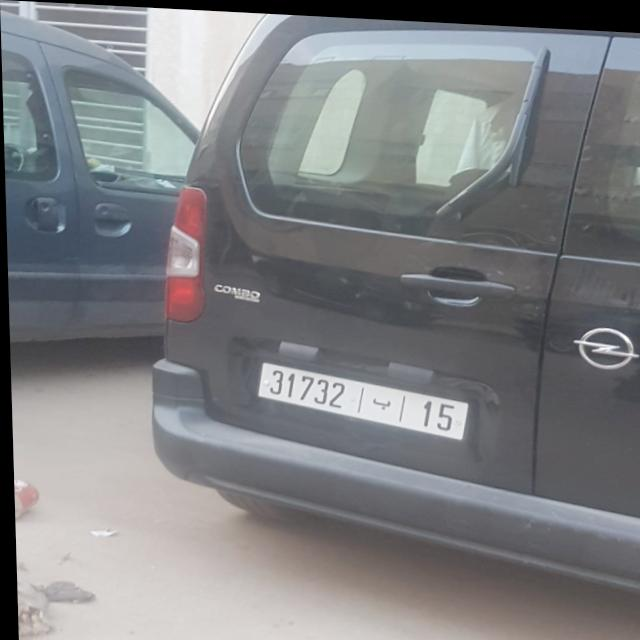License-Plate: (255, 360, 466, 434)
